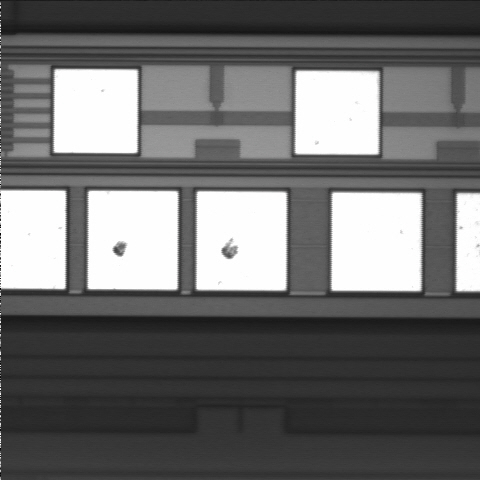pad: (88, 191, 178, 290), (197, 191, 286, 290), (332, 193, 421, 291), (54, 69, 138, 153), (295, 71, 379, 154)
